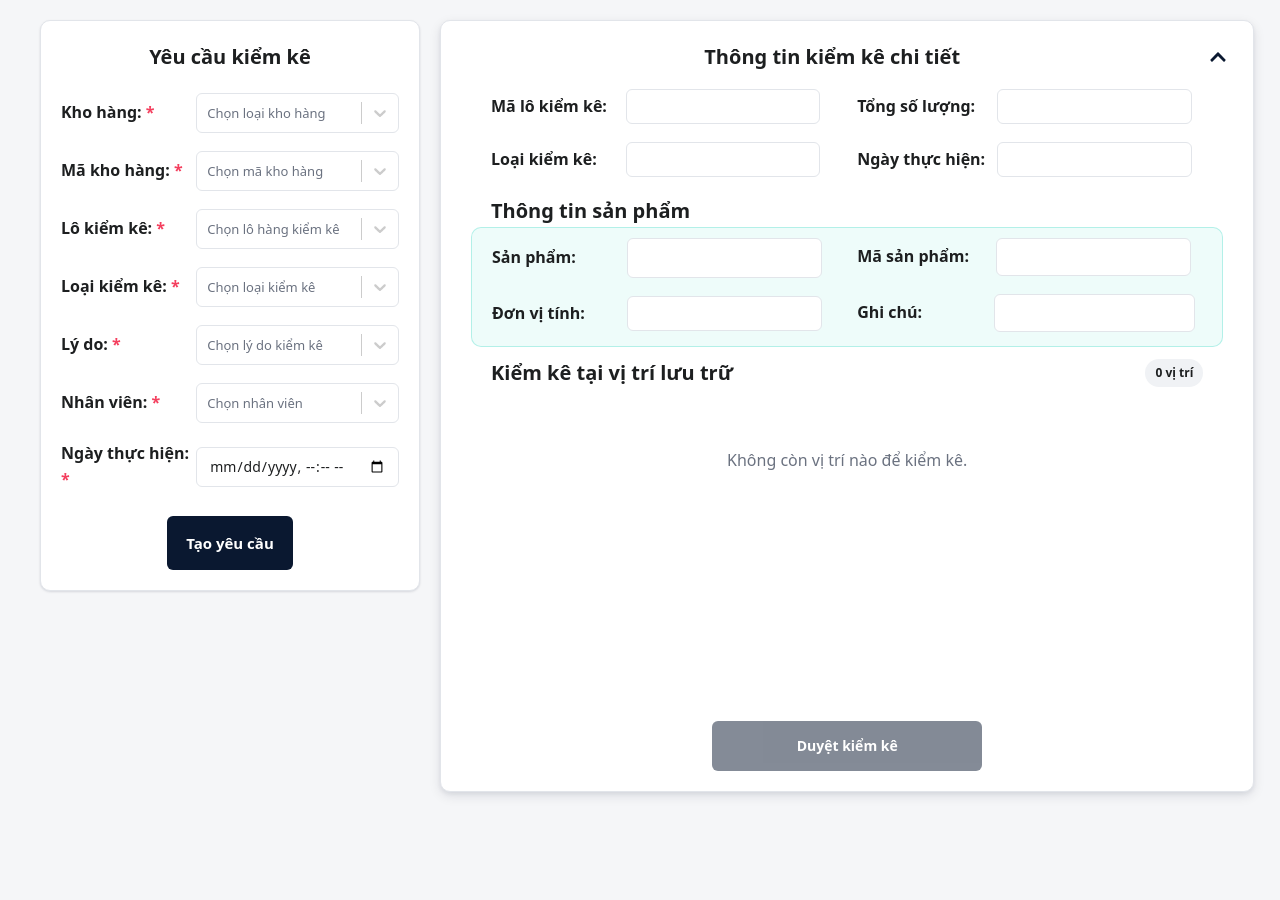
Test: LotAdjustmentRequest › submit khi chưa chọn gì -> báo đủ lỗi validate, không gọi API tạo yêu cầu
Click the button "Tạo yêu cầu": (230, 543) [167, 516, 293, 570]
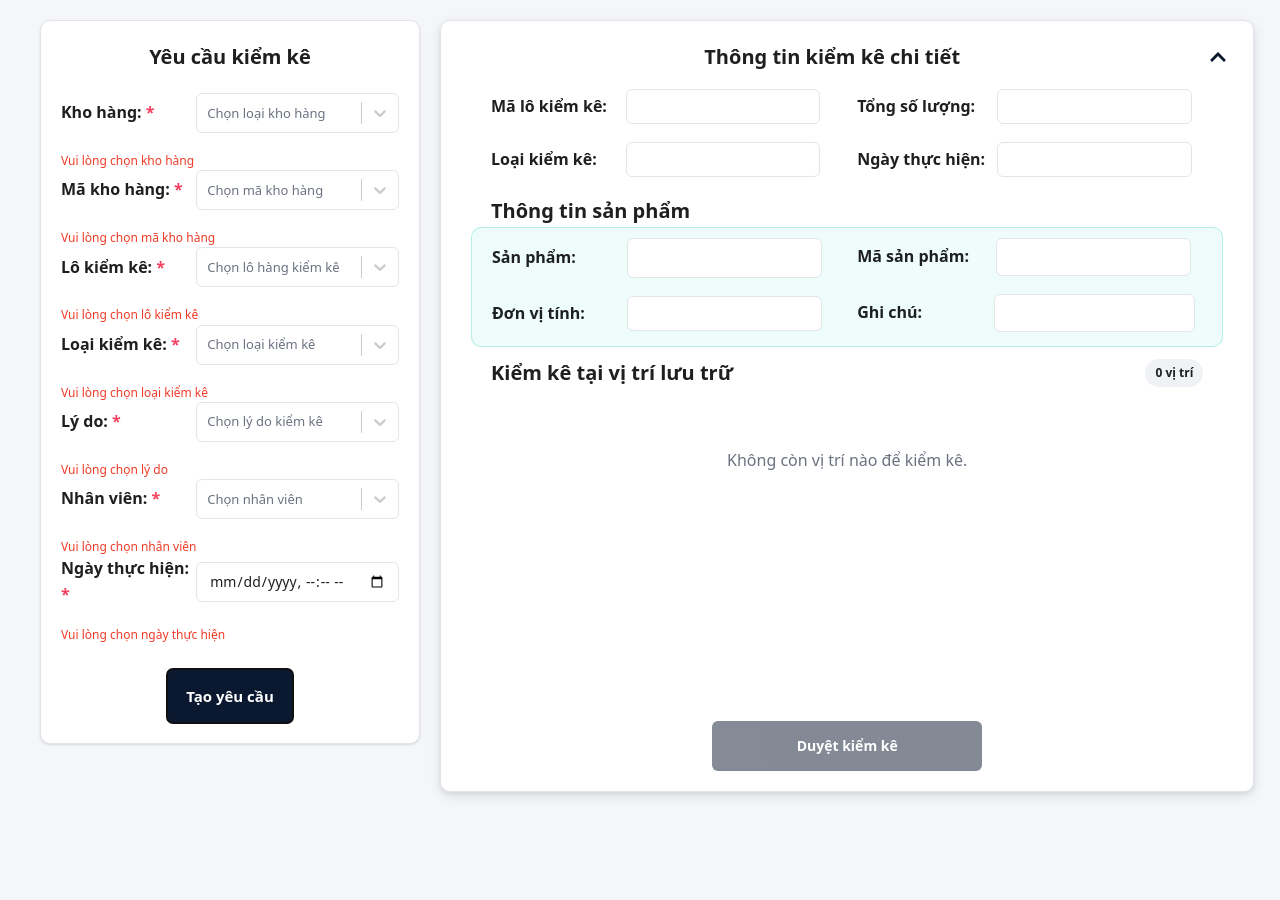
Check: the text "Vui lòng chọn kho hàng" is shown, box [61, 152, 194, 169]
Check: the text "Vui lòng chọn mã kho hàng" is shown, box [61, 229, 215, 246]
Check: the text "Vui lòng chọn lô kiểm kê" is shown, box [61, 306, 198, 323]
